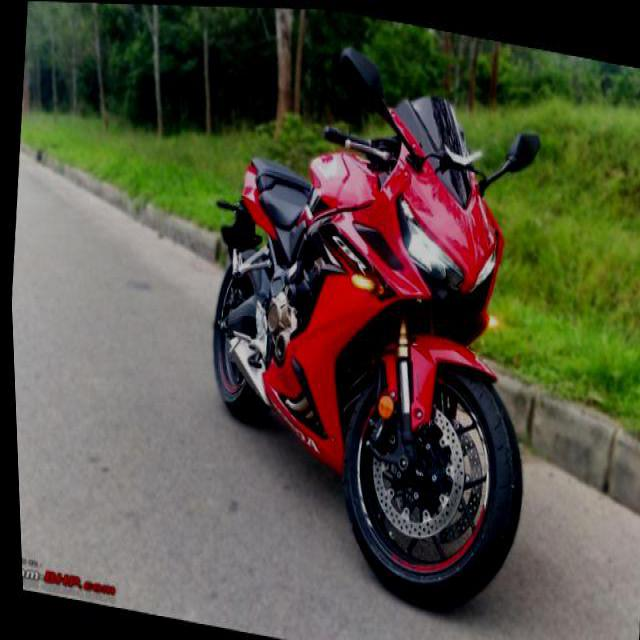CBR650R: (180, 48, 558, 627)
